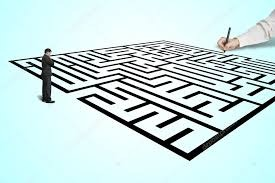maze: (100, 52, 245, 121), (58, 56, 99, 94), (246, 63, 274, 102)
